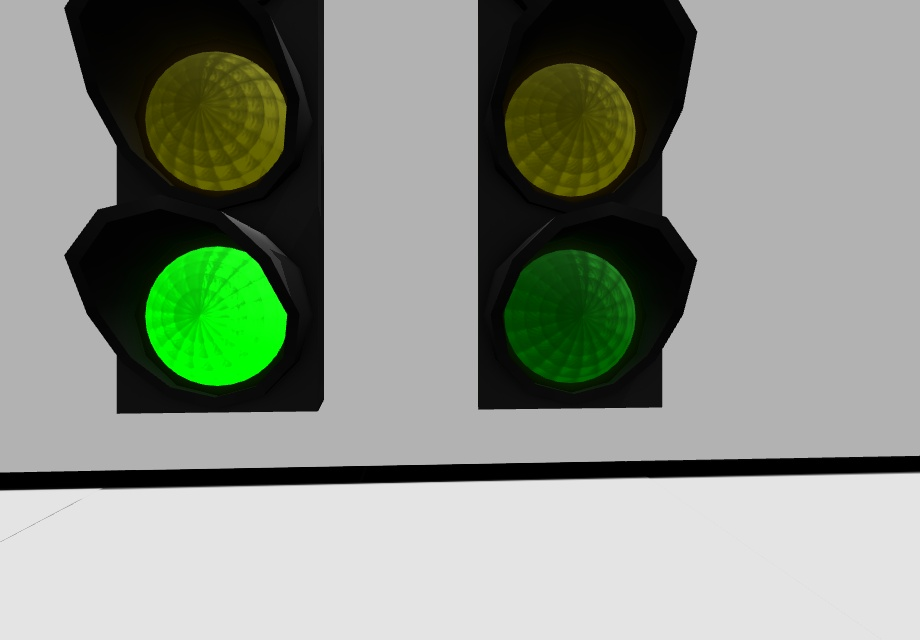green_off: (503, 248, 642, 387)
green_on: (148, 248, 280, 387)
